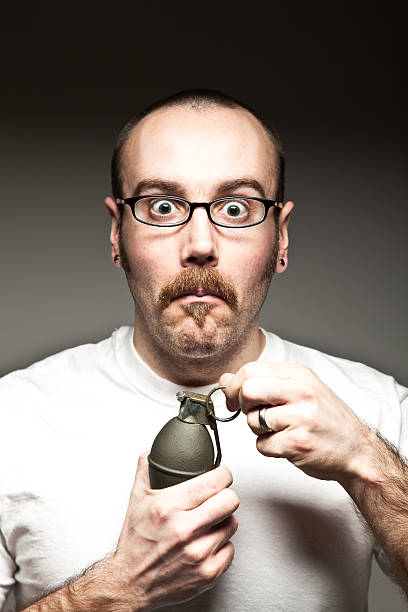e1: (149, 382, 243, 503)
